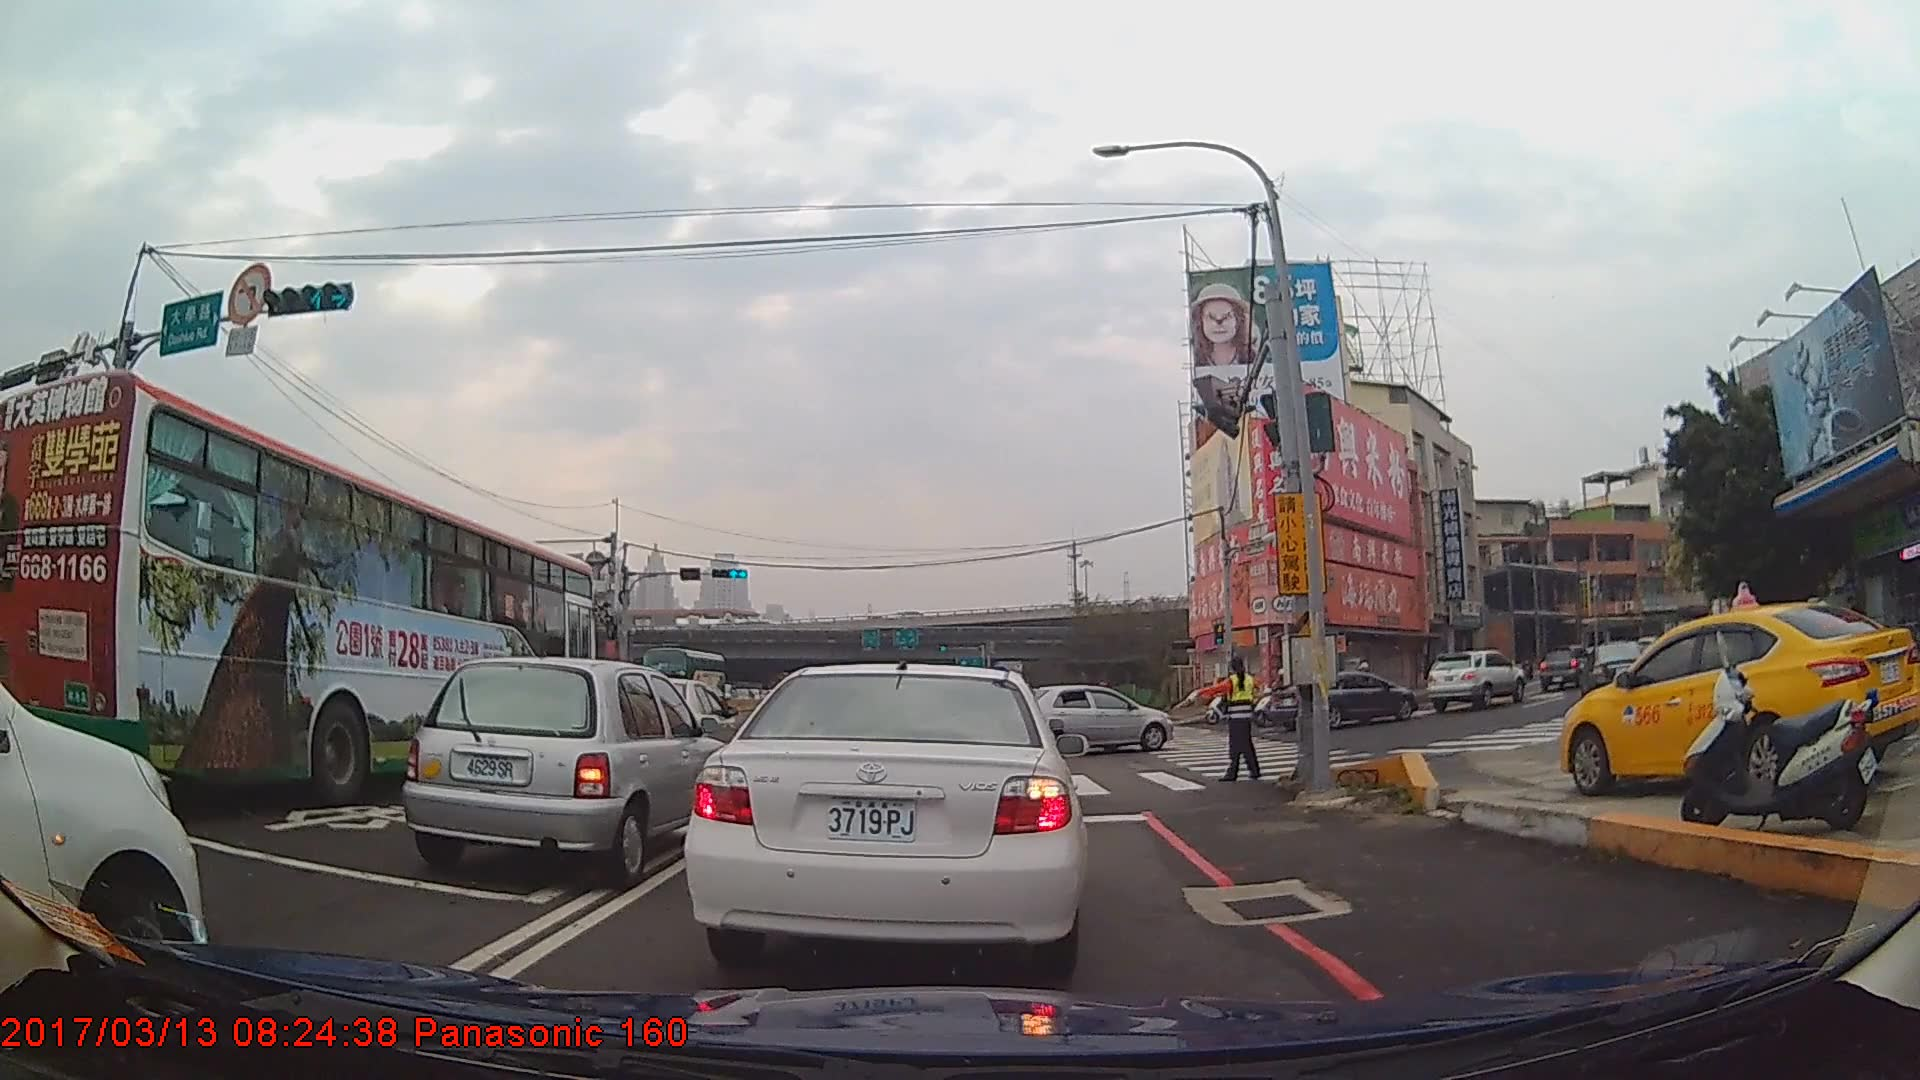pedestrian: (1185, 656, 1264, 788)
rider: (1253, 666, 1301, 726)
vehicle: (0, 364, 596, 810), (680, 659, 1087, 975), (403, 654, 736, 884), (1556, 599, 1919, 797), (996, 683, 1171, 756), (1270, 669, 1414, 733), (1424, 649, 1524, 711), (639, 645, 726, 708), (1578, 638, 1651, 705), (1539, 645, 1593, 691)
